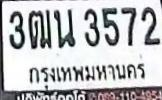2: (140, 6, 159, 44)
3: (8, 10, 24, 49), (83, 8, 99, 46)
5: (101, 6, 119, 46)
7: (120, 6, 136, 45)
A18: (27, 8, 51, 48)
A25: (53, 8, 75, 48)
BKK: (25, 58, 148, 89)
